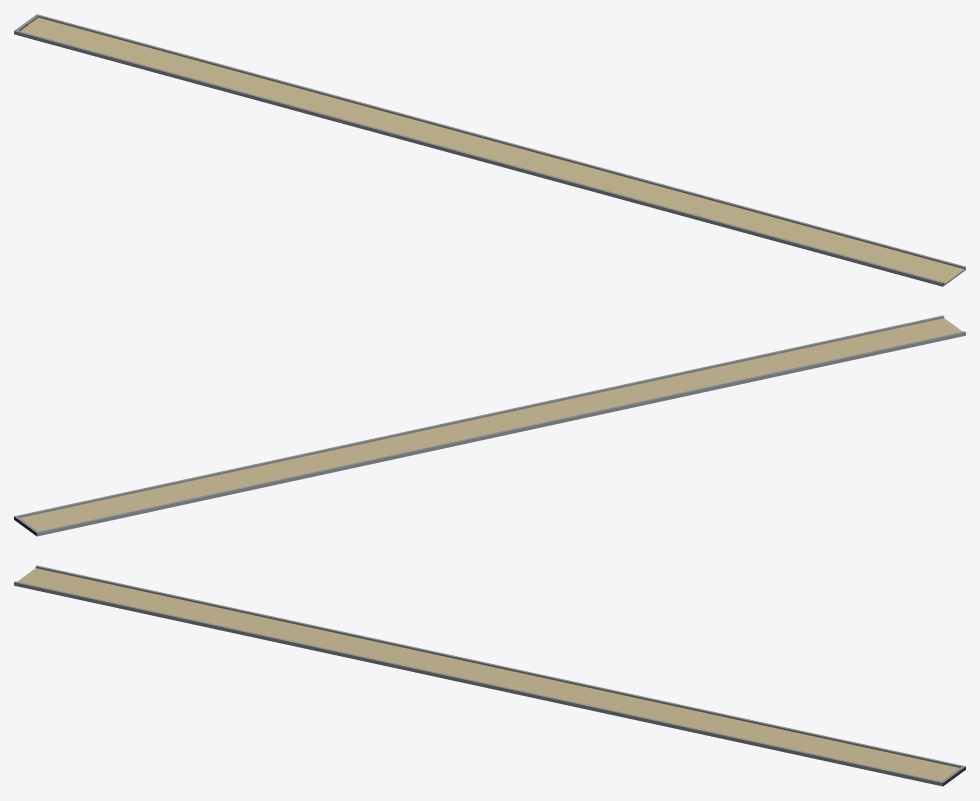
The model's file is Sidewalk_6.gltf.
3 views of the same model, one above another, from view 1: azimuth 90°, elevation 25°; view 2: azimuth 150°, elevation 25°; view 3: azimuth 270°, elevation 25° (orthographic).
Visible parts, largest first — view 1: sidewalk; view 2: sidewalk; view 3: sidewalk.
Part boxes in pixels (<box>): sidewalk: <box>14,14,965,286</box>; sidewalk: <box>14,315,965,536</box>; sidewalk: <box>14,565,965,786</box>.
Size of the model in its own units: 4.11 by 0.23 by 6.79.
1 material, 1 textured.
